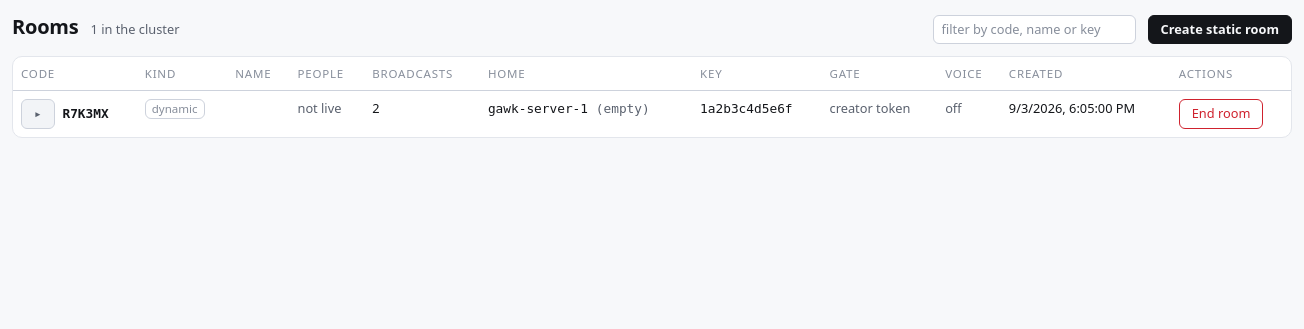
Test case: who is in a room (R49, docs/50 D10) › says the roster is unknown for a room that is not live
Expected: the text "R7K3MX" is shown, [62,106,109,122]
Step 1. Click the button named "Show who is in R7K3MX" → (38, 114), box [21,100,55,129]
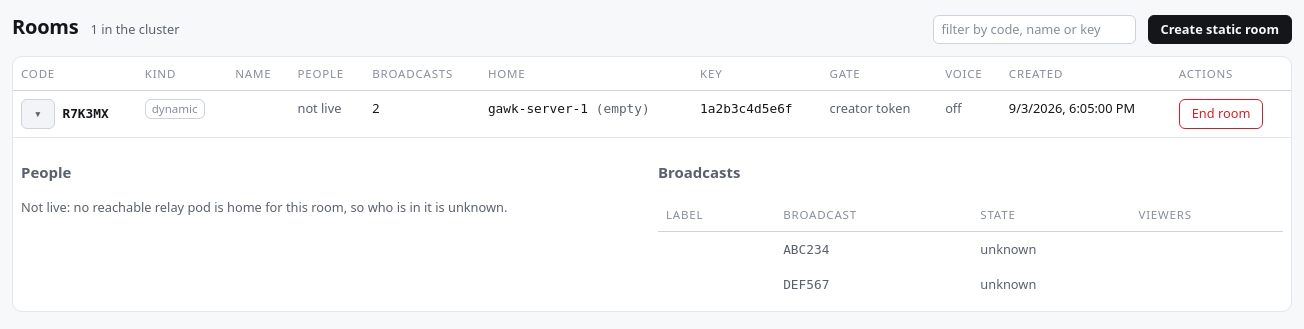
Expected: the text "who is in it is unknown" is shown, [21,198,507,216]
Expected: the text "unknown" is shown 2 times, [980,240,1036,258]; [980,276,1036,294]
